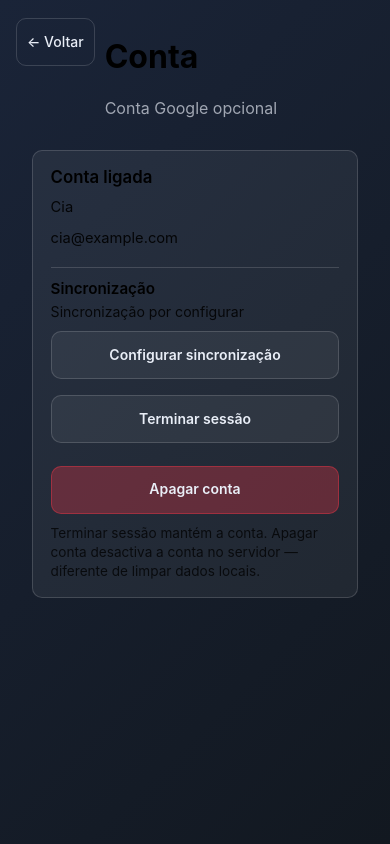
Scenario: AUTH-01E account delete › UI wipe requires second confirmation
The image size is (390, 844).
Step 1. Click the button with test id "account-delete" → (195, 490), box [51,466,339,514]
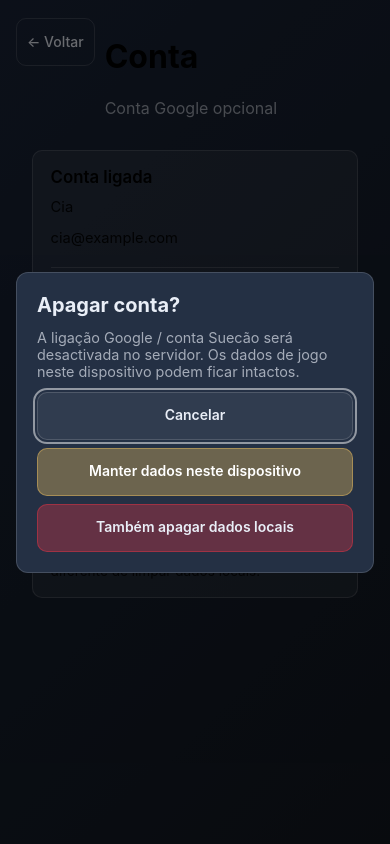
Step 2. Click the button with test id "account-delete-wipe-local" → (195, 528), box [37,504,353,552]
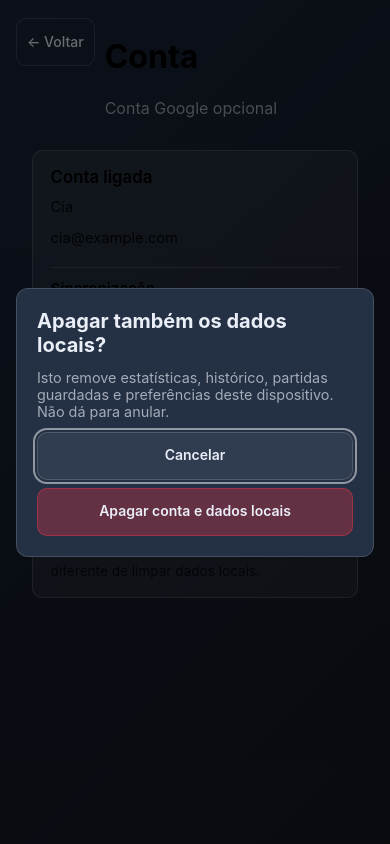
Result: the button with test id "account-delete-wipe-confirm" is shown at [37,488,353,536]
